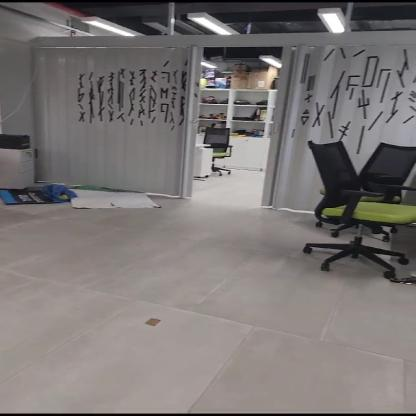open: (181, 44, 278, 208)
